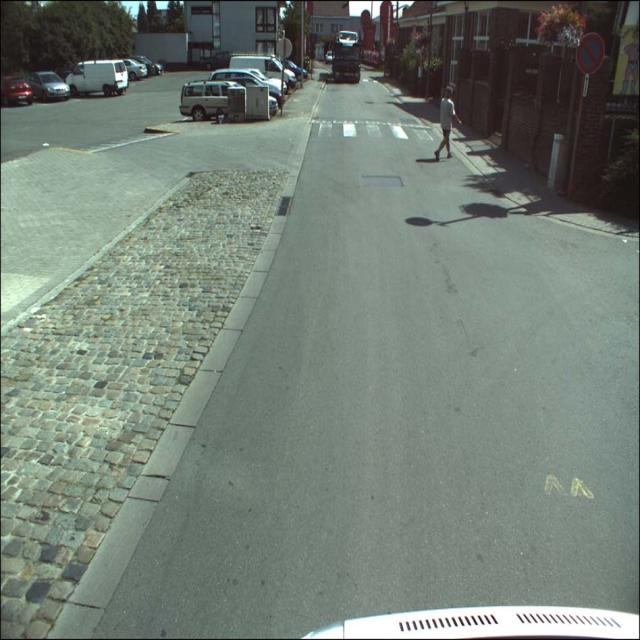parkyasak: (575, 31, 604, 77)
